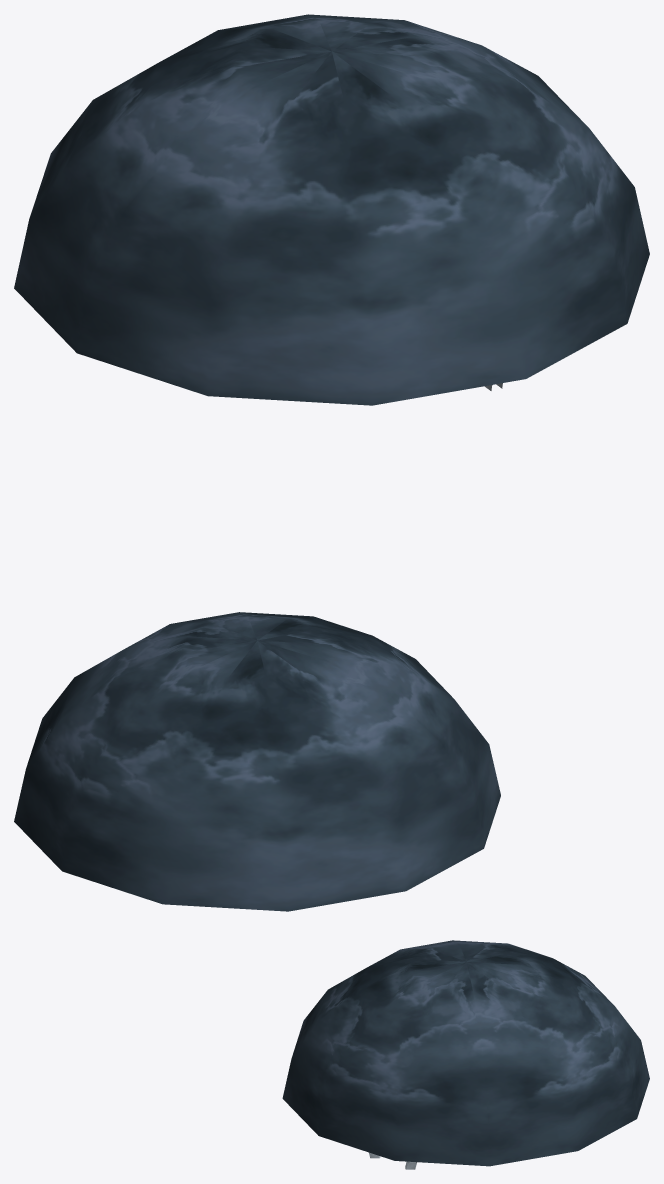
File: env_fo_kylo_quarters_kijimi_pre.glb
3 renders of one model, top to bottom at view 1: azimuth 30°, elevation 25°; view 2: azimuth 150°, elevation 25°; view 3: azimuth 270°, elevation 25°, orthographic. The views are drawn at different scales.
Visible parts, largest first — view 1: skybox_01_mesh; view 2: skybox_01_mesh; view 3: skybox_01_mesh.
Part boxes in pixels (x1,y1,x2,y2): skybox_01_mesh: (14, 14, 649, 405); skybox_01_mesh: (14, 612, 500, 911); skybox_01_mesh: (282, 940, 649, 1166).
Size of the model in its own units: 111 by 57.84 by 192.
32 materials, 32 textured.
